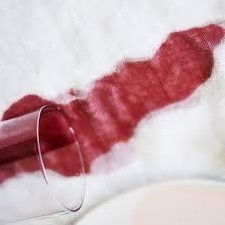wine: (113, 60, 189, 118), (73, 96, 132, 156), (173, 37, 219, 93)
